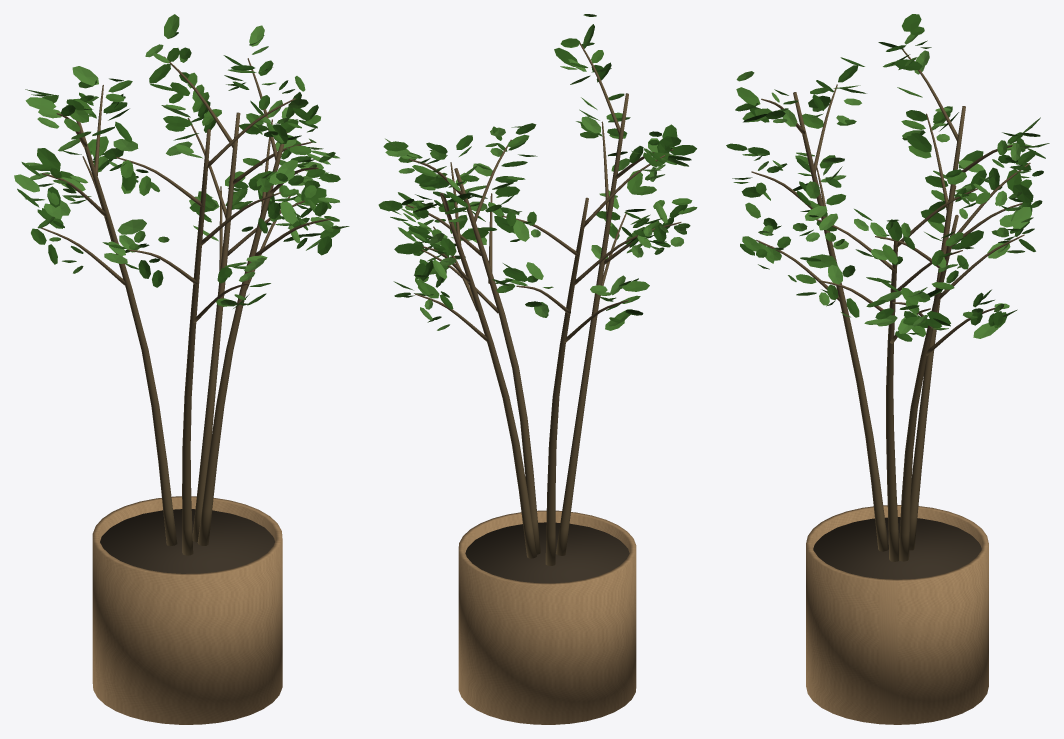
File: lod1_source.glb
3 renders of one model, left to right at view 1: azimuth 30°, elevation 25°; view 2: azimuth 150°, elevation 25°; view 3: azimuth 270°, elevation 25°, orthographic. The views are drawn at different scales.
Visible parts, largest first — view 1: Cylindrical oak planter with open rim, Individual small leaves, species unspecified, Visible dark soil, Main woody stem 2, Main woody stem 1, Main woody stem 3, Main woody stem 0; view 2: Cylindrical oak planter with open rim, Individual small leaves, species unspecified, Visible dark soil, Main woody stem 2, Main woody stem 0, Main woody stem 3, Main woody stem 1; view 3: Cylindrical oak planter with open rim, Individual small leaves, species unspecified, Visible dark soil, Main woody stem 2, Main woody stem 1, Main woody stem 0, Main woody stem 3.
Boxes of the visible parts, <box> form: Cylindrical oak planter with open rim: <box>92,496,282,724</box>; Individual small leaves, species unspecified: <box>14,14,349,308</box>; Visible dark soil: <box>100,509,274,573</box>; Main woody stem 2: <box>182,129,210,555</box>; Main woody stem 1: <box>76,120,177,545</box>; Main woody stem 3: <box>197,132,287,545</box>; Main woody stem 0: <box>192,112,240,542</box>; Cylindrical oak planter with open rim: <box>458,510,636,724</box>; Individual small leaves, species unspecified: <box>378,14,697,330</box>; Visible dark soil: <box>465,522,629,583</box>; Main woody stem 2: <box>555,93,628,555</box>; Main woody stem 0: <box>440,193,537,558</box>; Main woody stem 3: <box>454,168,540,554</box>; Main woody stem 1: <box>545,197,588,565</box>; Cylindrical oak planter with open rim: <box>806,505,988,724</box>; Individual small leaves, species unspecified: <box>726,14,1049,341</box>; Visible dark soil: <box>813,517,981,579</box>; Main woody stem 2: <box>793,92,888,551</box>; Main woody stem 1: <box>909,106,965,550</box>; Main woody stem 0: <box>899,215,958,561</box>; Main woody stem 3: <box>886,222,899,561</box>.
Size of the model in its own units: 0.7309 by 1.54 by 0.7155.
Materials: 7 (1 with a texture image).
